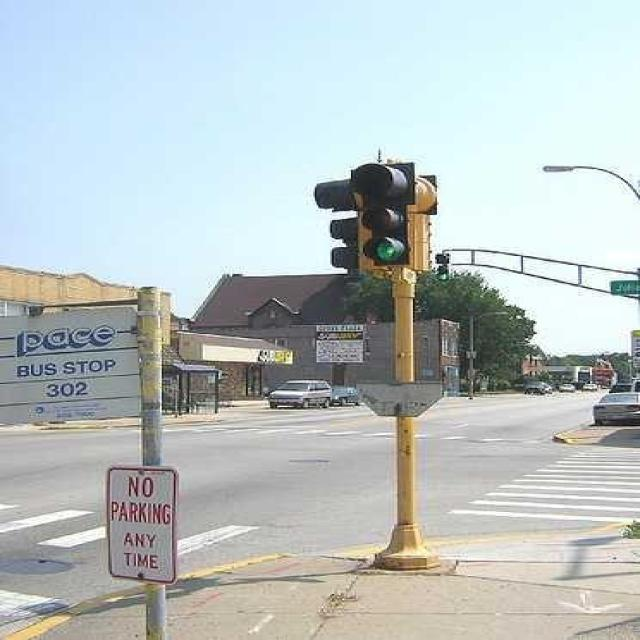Traffic Light -Green-: (344, 157, 420, 272)
